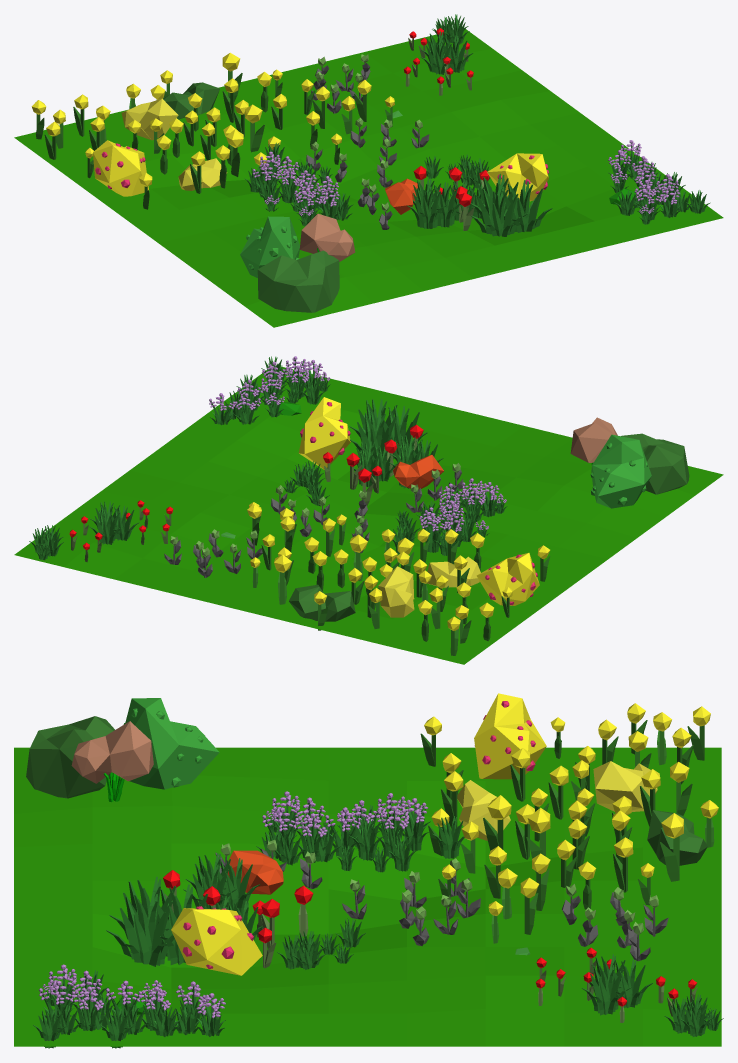
File: MEADOW_FIELD10.fbx
3 views of the same model, one above another, from view 1: azimuth 30°, elevation 25°; view 2: azimuth 150°, elevation 25°; view 3: azimuth 270°, elevation 25° (orthographic). The views are drawn at different scales.
Parts seen in each view (by area): view 1: Plane.063; view 2: Plane.063; view 3: Plane.063.
Boxes of the visible parts, x1,y1,x2,y2 form: Plane.063: (14, 14, 723, 327); Plane.063: (14, 356, 723, 664); Plane.063: (14, 693, 723, 1048).
Size of the model in its own units: 1000 by 180 by 1003.
